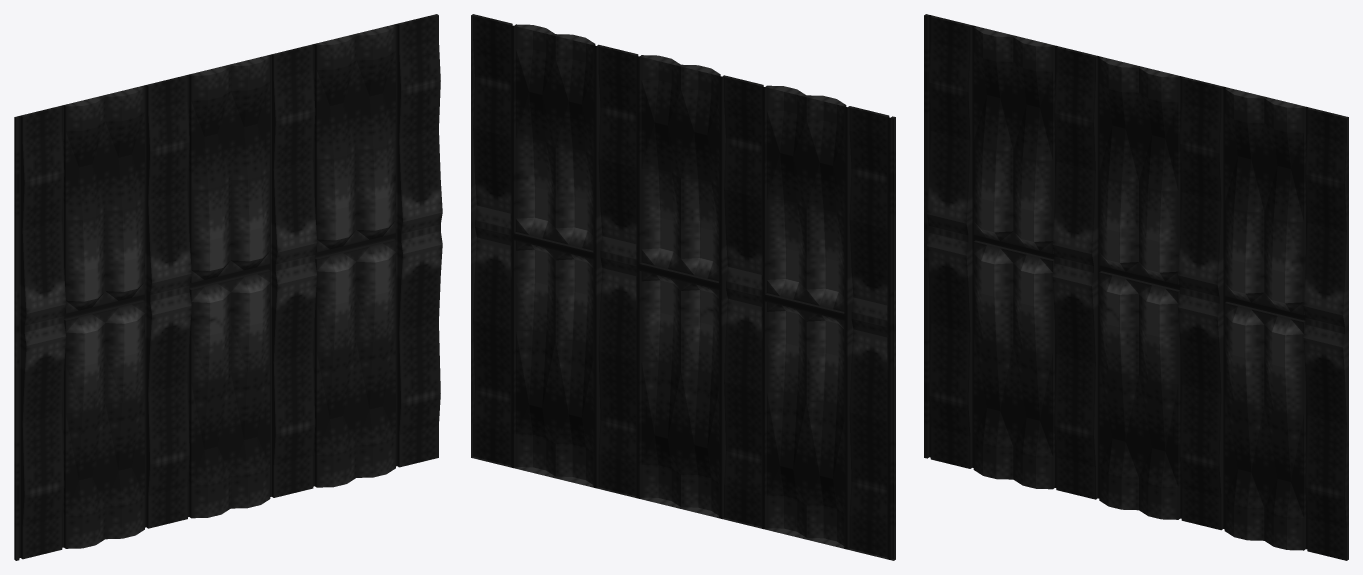
The model's file is flight2_1.fbx.
The picture shows the model from 3 angles, left to right: view 1: azimuth 30°, elevation 25°; view 2: azimuth 150°, elevation 25°; view 3: azimuth 330°, elevation 25°; orthographic projection.
Parts seen in each view (by area): view 1: flight2_1_mesh; view 2: flight2_1_mesh; view 3: flight2_1_mesh.
Part boxes in pixels (x1,y1,x2,y2): flight2_1_mesh: [14, 14, 442, 560]; flight2_1_mesh: [471, 14, 895, 560]; flight2_1_mesh: [924, 14, 1348, 560].
Size of the model in its own units: 256 by 256 by 8.
